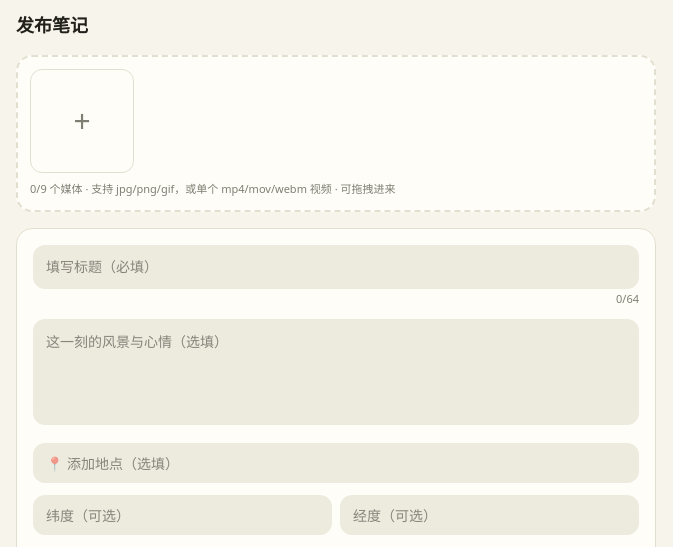
it: PublishView × P12-E3 逆地理联动 › 坐标齐备且地名为空时自动回填候选（仍可编辑）
Type "31.2304" into the number field with test id "input-latitude" at (182, 515), box [33, 495, 332, 535]
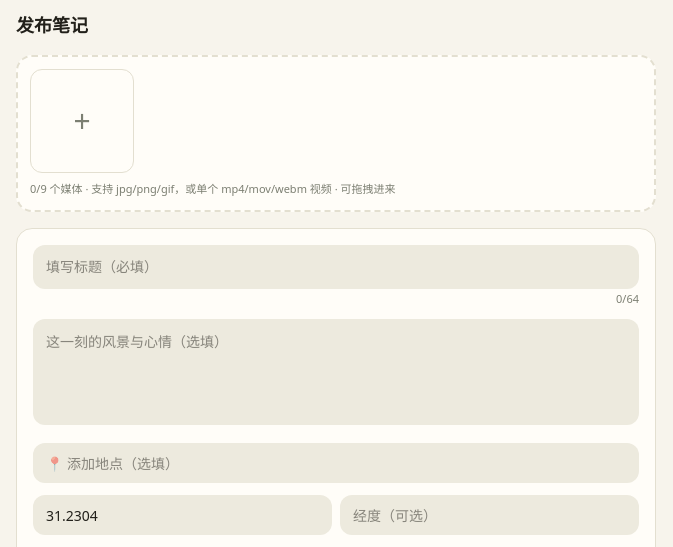
Type "121.4737" into the number field with test id "input-longitude" at (490, 515), box [340, 495, 639, 535]
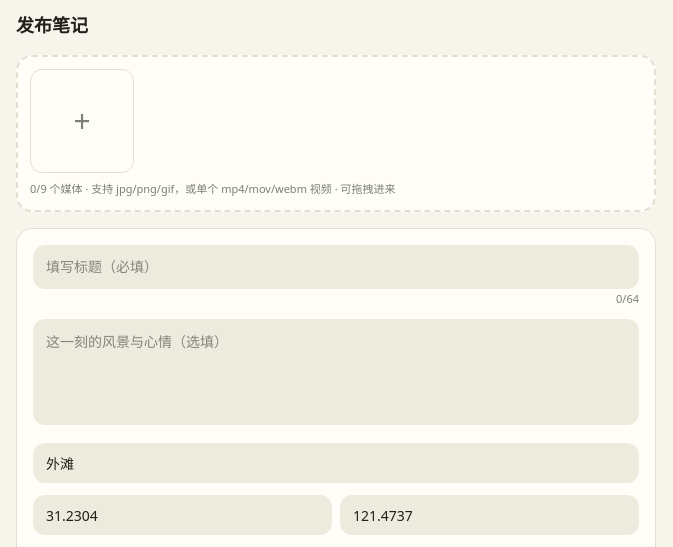
Now the 2nd field holds "外滩", box [33, 443, 639, 483]
